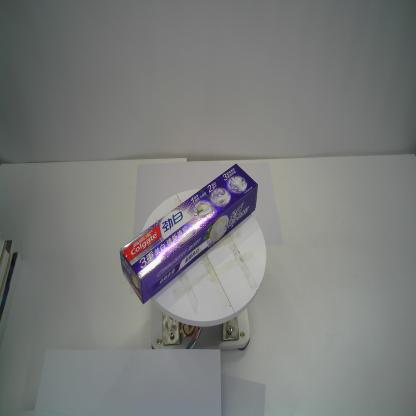Personal Hygiene: (119, 164, 258, 305)
